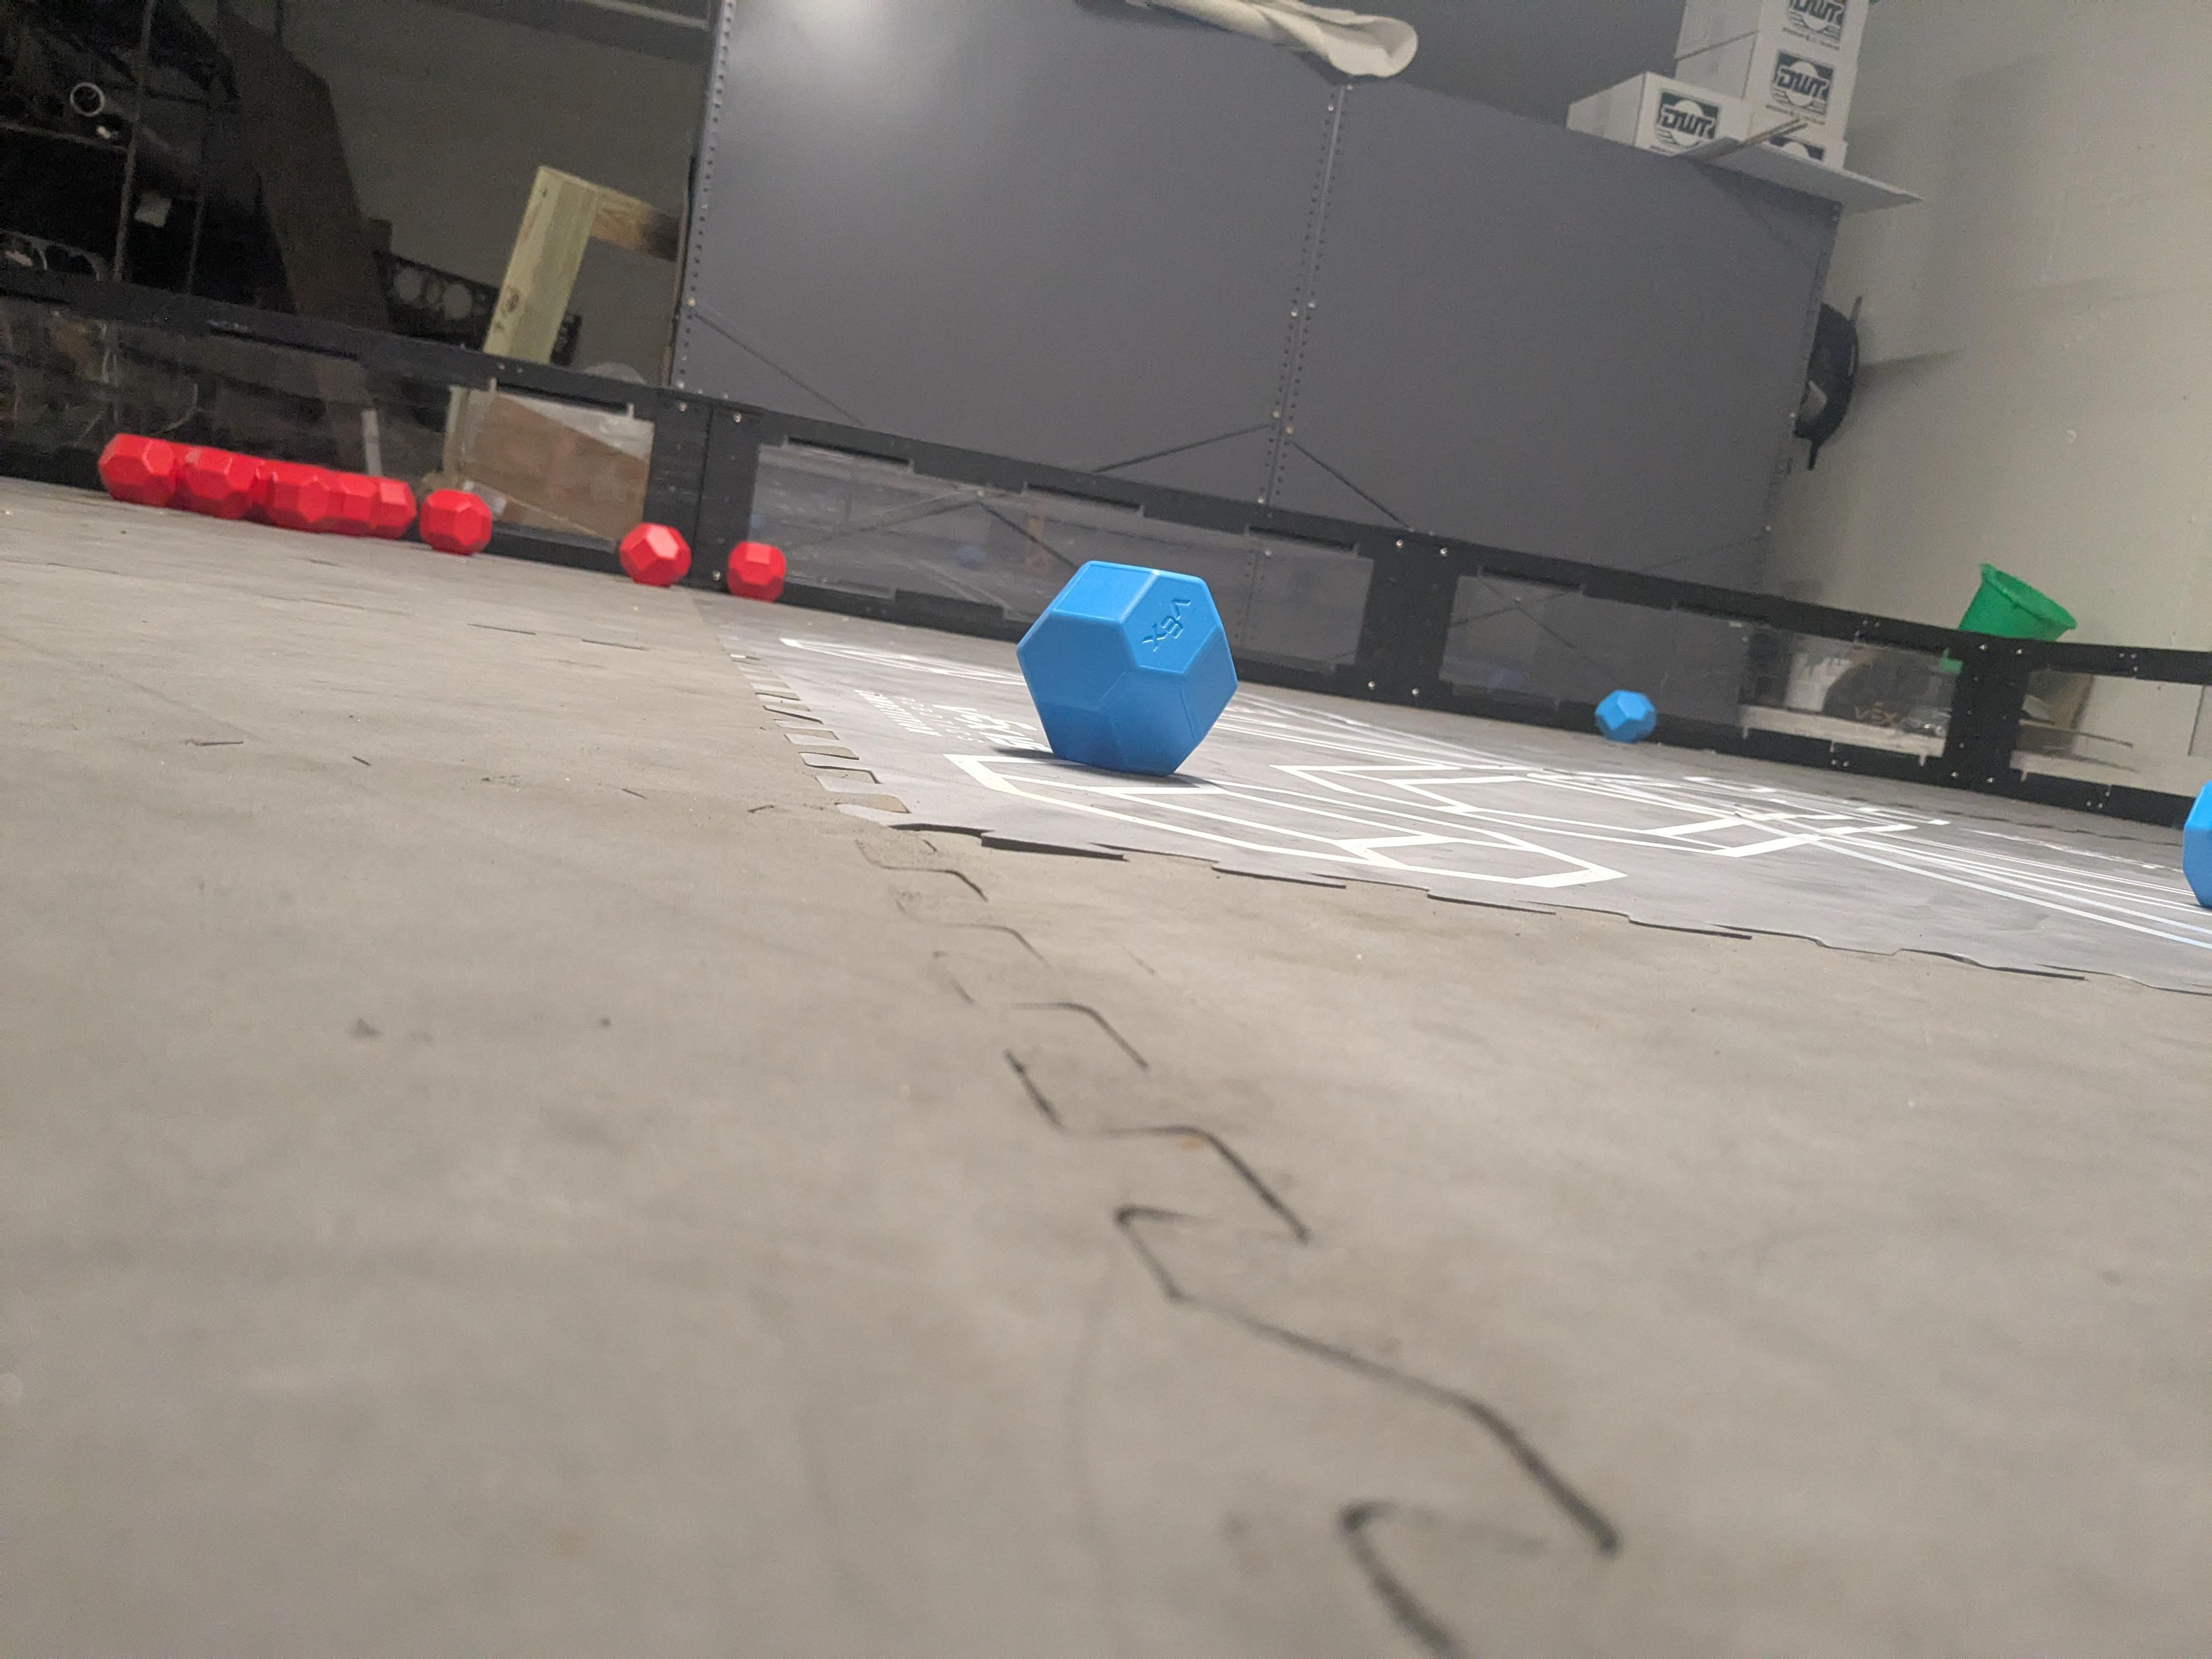Vex-Pieces-BLUE: (1022, 563, 1237, 777), (2182, 781, 2212, 910), (1594, 688, 1656, 742)
